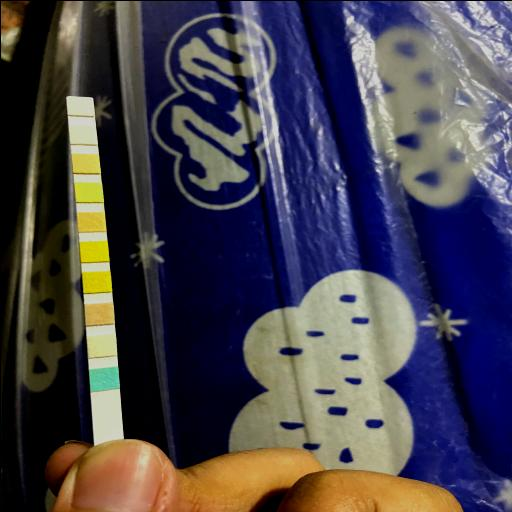Bilirubin: (87, 336, 115, 354)
Blood: (80, 240, 106, 260)
Glucose: (90, 369, 118, 387)
Ketone: (84, 303, 112, 323)
Leukocytes: (68, 98, 92, 114)
Nitrite: (70, 125, 95, 143)
Protein: (75, 182, 101, 200)
SpGravity: (82, 272, 110, 290)
Urobilinogen: (73, 154, 97, 172)
pH: (78, 212, 103, 230)
strip: (65, 95, 123, 445)
